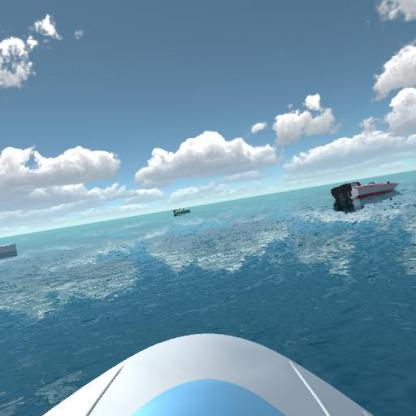usv0: (170, 206, 193, 218)
usv3: (326, 177, 402, 212)
